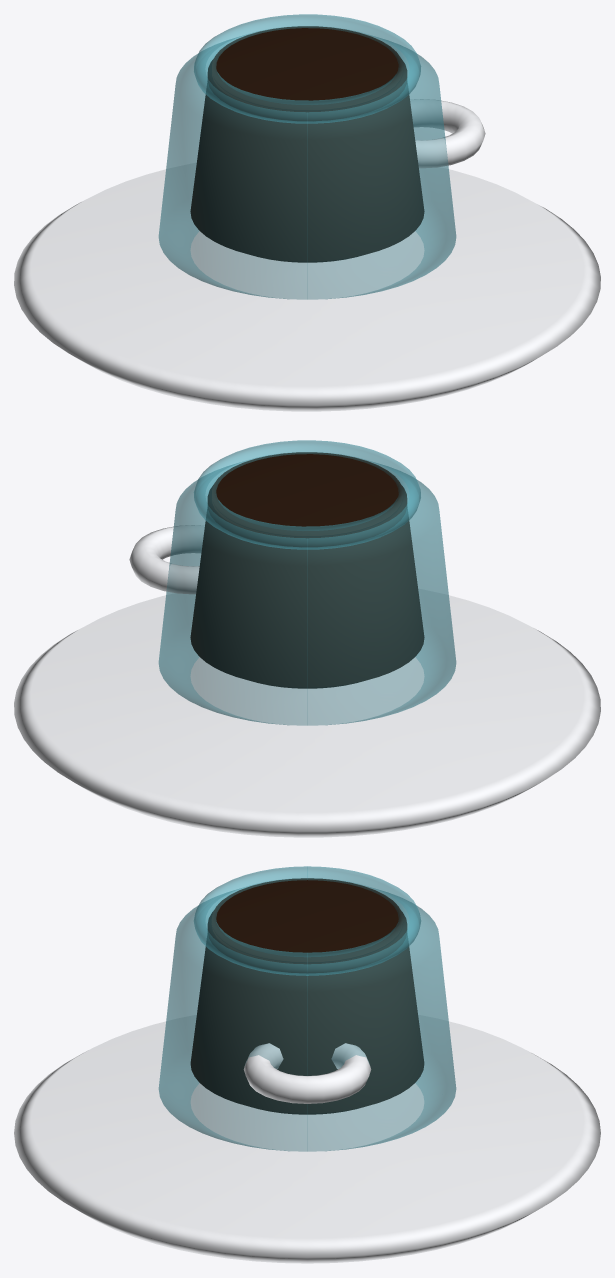
The model's file is latte.glb.
The picture shows the model from 3 angles, top to bottom: view 1: azimuth 30°, elevation 25°; view 2: azimuth 150°, elevation 25°; view 3: azimuth 270°, elevation 25°; orthographic projection.
Visible parts, largest first — view 1: saucer, cup, coffee, black-coffee-surface, glass-rim, handle, black-coffee-core; view 2: saucer, cup, coffee, black-coffee-surface, glass-rim, handle, black-coffee-core; view 3: saucer, cup, coffee, black-coffee-surface, glass-rim, handle, black-coffee-core.
Boxes of the visible parts, bbox=[...] form: saucer: bbox=[14, 163, 600, 411]; cup: bbox=[158, 27, 456, 299]; coffee: bbox=[190, 82, 424, 262]; black-coffee-surface: bbox=[212, 26, 402, 112]; glass-rim: bbox=[194, 14, 420, 123]; handle: bbox=[410, 99, 485, 168]; black-coffee-core: bbox=[207, 59, 407, 123]; saucer: bbox=[14, 589, 600, 837]; cup: bbox=[158, 453, 456, 725]; coffee: bbox=[190, 508, 424, 688]; black-coffee-surface: bbox=[212, 452, 402, 538]; glass-rim: bbox=[194, 440, 420, 549]; handle: bbox=[129, 525, 204, 594]; black-coffee-core: bbox=[207, 485, 407, 549]; saucer: bbox=[14, 1015, 600, 1263]; cup: bbox=[158, 879, 456, 1151]; coffee: bbox=[190, 935, 424, 1114]; black-coffee-surface: bbox=[211, 878, 403, 964]; glass-rim: bbox=[194, 866, 420, 975]; handle: bbox=[243, 1043, 371, 1103]; black-coffee-core: bbox=[207, 911, 407, 974].
Size of the model in its own units: 2.76 by 1.23 by 2.76.
